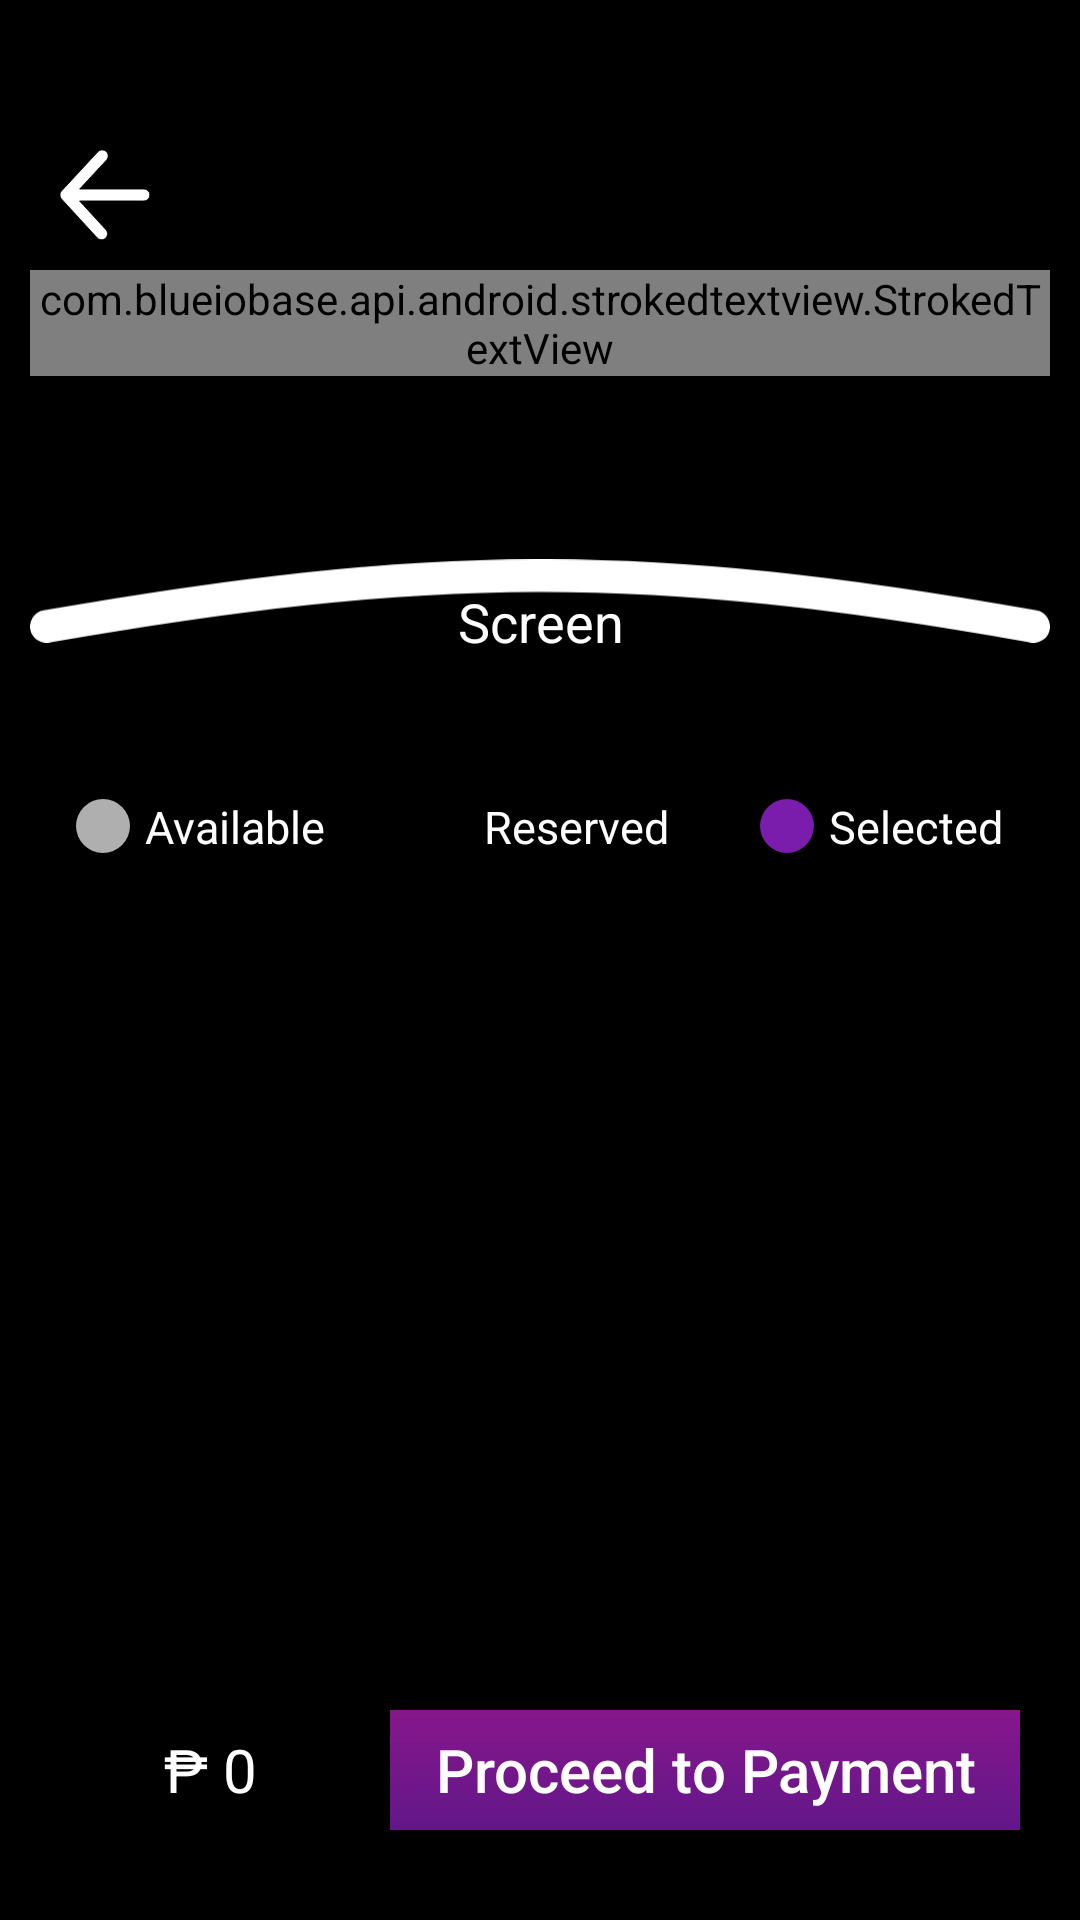

Icon bounding boxes for this 1080x1920 phone screenshot, format [x1, y1, x2, y2]:
back: [60, 150, 150, 240]
